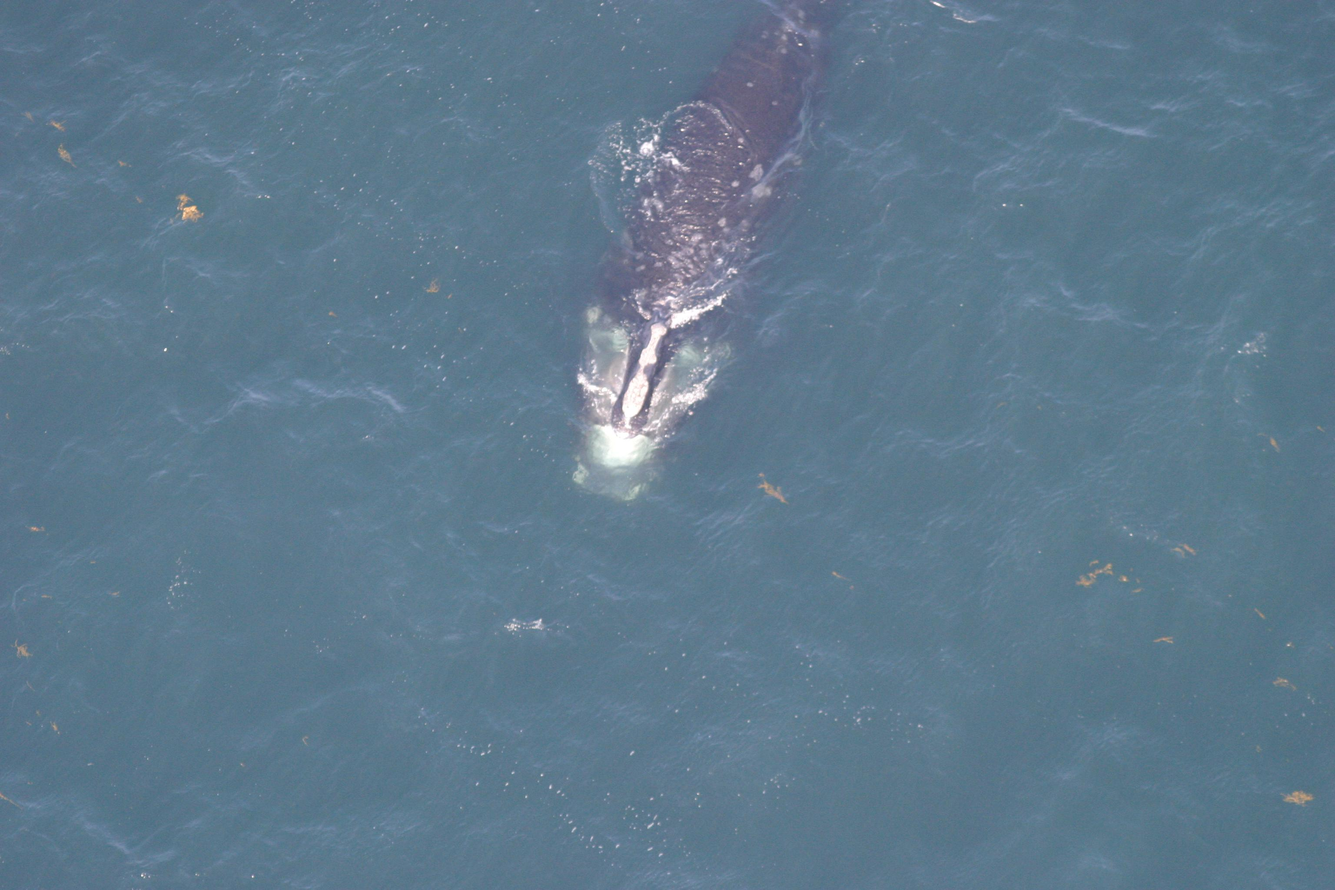whale: (559, 0, 874, 515)
